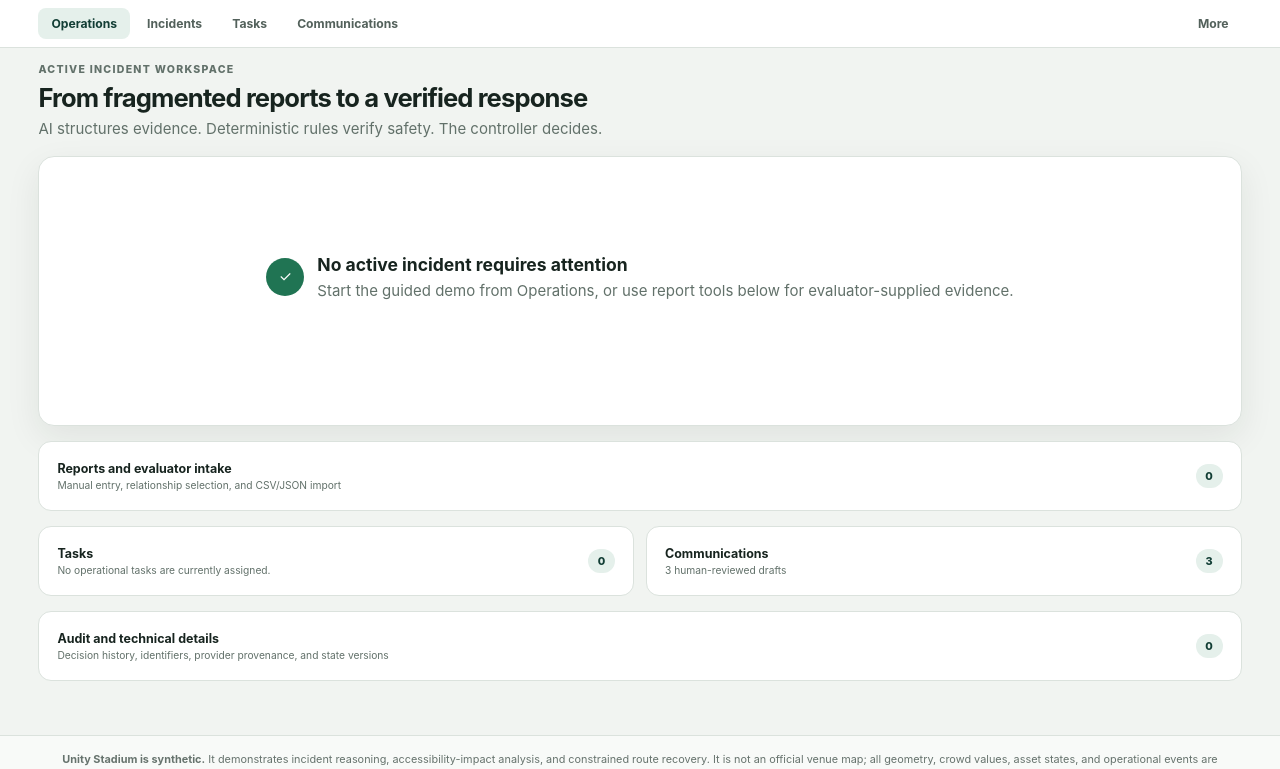
Test case: VenueSignal frontend experience › shows one communication language at a time and labels delivery as simulated
The image size is (1280, 769).
(page scrolled)
Check: the text "3 human-reviewed drafts" is shown, box [665,564,786,576]
Click the text "Communications" at x=726, y=554, box [665,546,786,561]
(page scrolled)
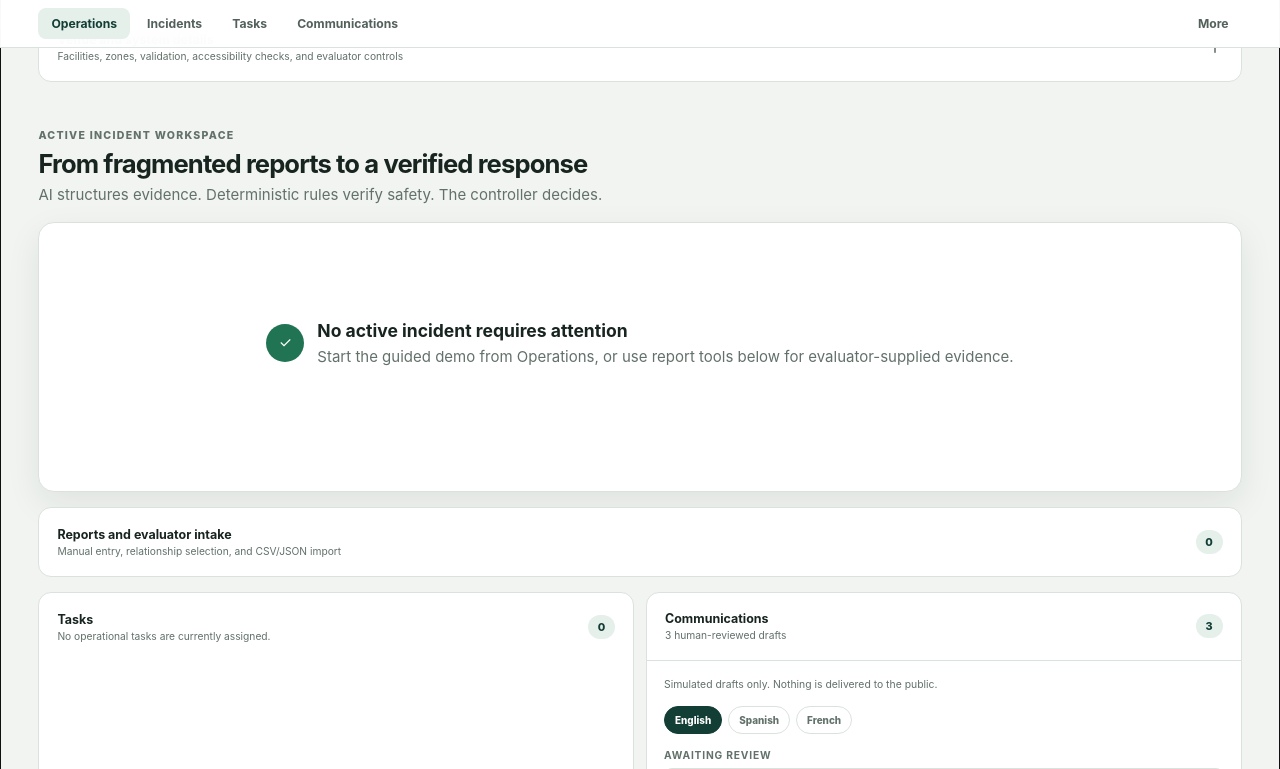
Check: the text "Spanish draft" is not shown
Check: the text "Simulated drafts only. Nothing is delivered to the public." is shown, box [664,678,938,691]
Click the button "Spanish" at x=759, y=720, box [728,706,790,734]
(page scrolled)
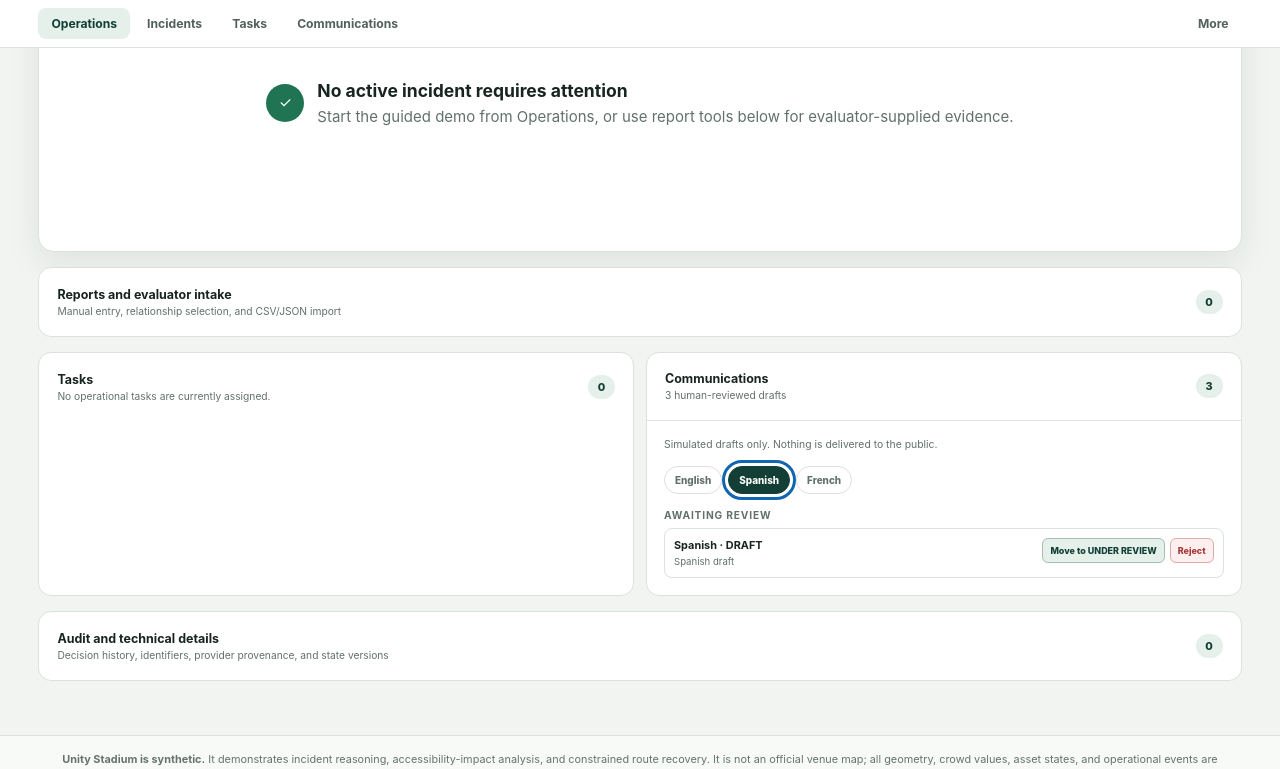
Check: the text "Spanish draft" is shown, box [674,556,734,567]
